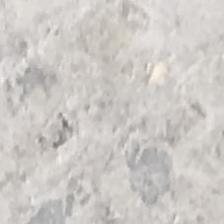Non_Crack: (14, 8, 224, 224)
